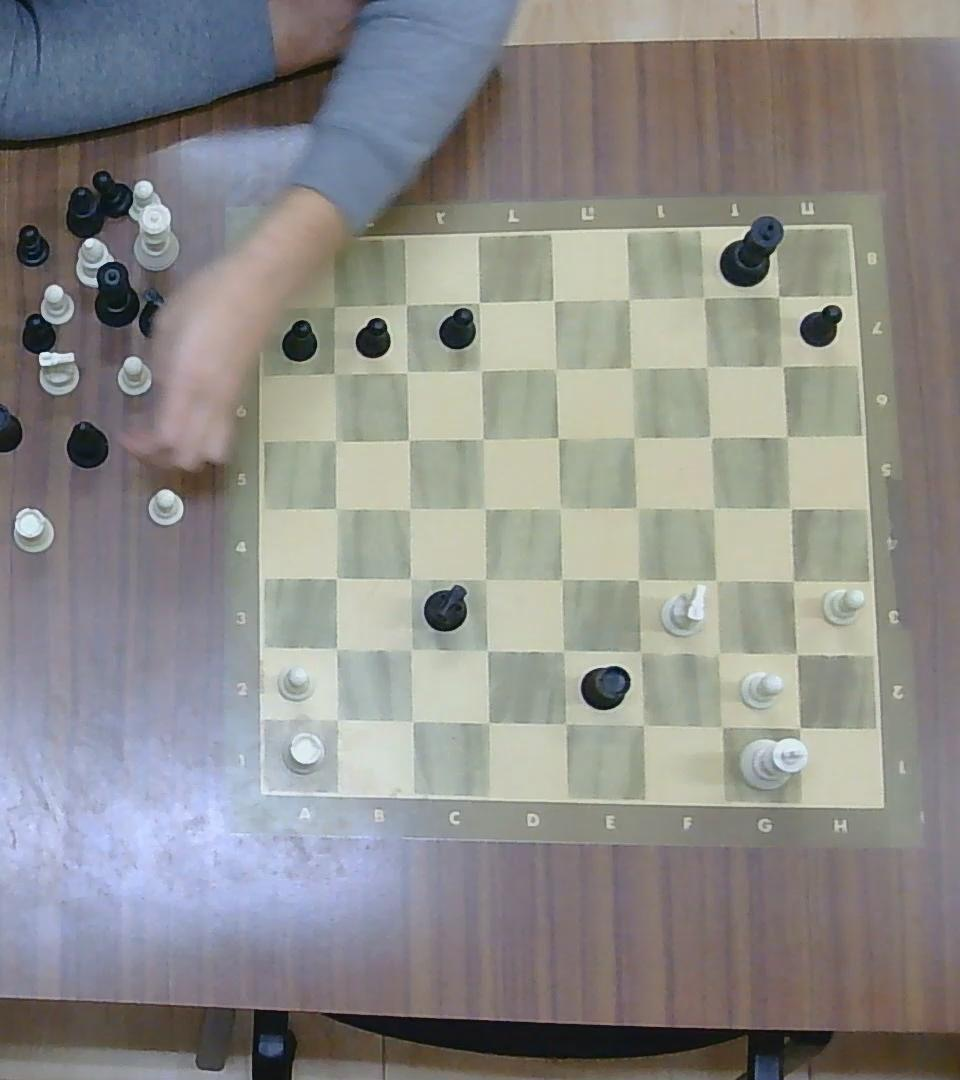xcorner: (781, 710, 816, 743), (701, 636, 735, 669), (626, 707, 658, 740), (705, 708, 736, 742), (548, 706, 580, 738), (471, 706, 503, 737), (781, 637, 812, 668), (320, 703, 351, 734), (622, 563, 652, 594), (625, 636, 656, 666), (396, 705, 427, 735), (698, 492, 728, 523), (776, 565, 807, 595), (471, 634, 501, 664), (548, 636, 578, 666), (700, 565, 730, 595), (548, 563, 577, 594), (776, 493, 806, 522), (615, 284, 645, 313), (617, 351, 646, 381), (395, 635, 424, 664), (622, 493, 651, 522), (471, 564, 500, 593), (321, 562, 350, 591), (321, 633, 350, 662), (693, 351, 722, 380), (547, 493, 575, 522), (545, 422, 573, 451), (471, 493, 499, 522), (621, 421, 649, 449), (395, 564, 423, 592), (539, 286, 567, 314), (468, 424, 495, 452), (322, 494, 350, 521), (543, 354, 571, 381), (692, 283, 720, 310), (769, 352, 797, 379), (698, 423, 725, 450), (321, 427, 349, 453), (772, 422, 800, 448), (320, 292, 348, 318), (321, 360, 349, 385), (468, 354, 493, 381), (396, 495, 422, 520), (395, 426, 421, 451), (393, 358, 419, 383), (766, 284, 792, 309), (466, 287, 491, 313), (393, 291, 419, 315)
